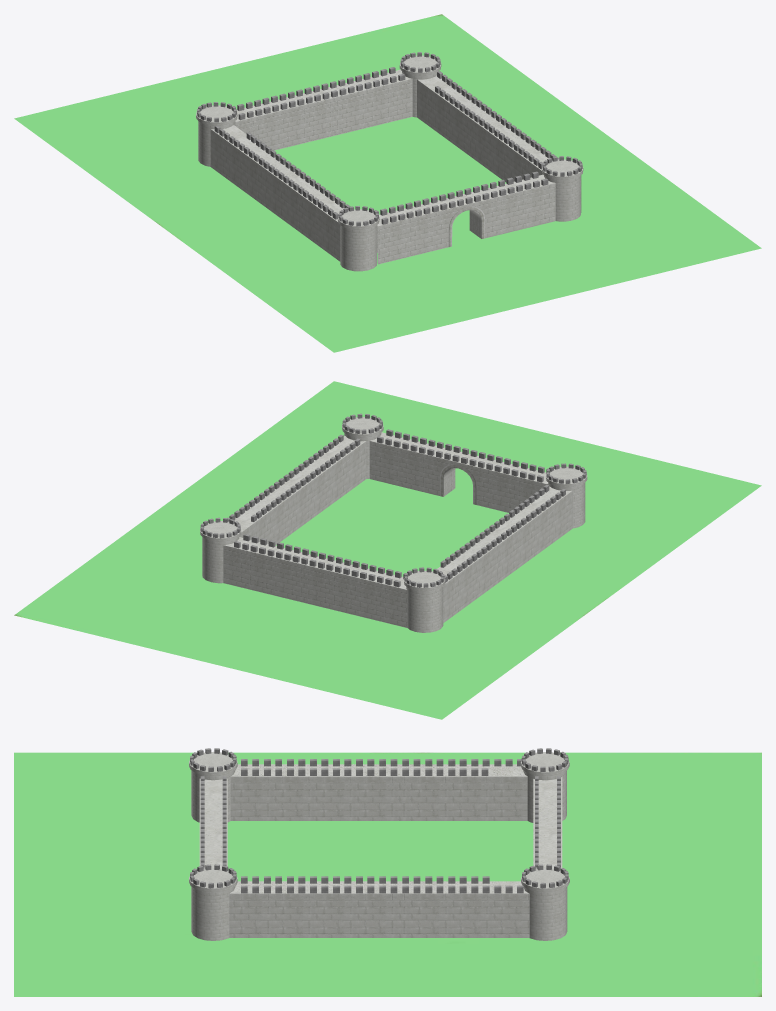
File: castle.glb
The picture shows the model from 3 angles, top to bottom: view 1: azimuth 30°, elevation 25°; view 2: azimuth 150°, elevation 25°; view 3: azimuth 270°, elevation 25°; orthographic projection. The views are drawn at different scales.
Visible parts, largest first — view 1: Ground_and_Fountain, Castle_Exterior; view 2: Ground_and_Fountain, Castle_Exterior; view 3: Ground_and_Fountain, Castle_Exterior.
Boxes of the visible parts, box(x1,y1,x2,y2) form: Ground_and_Fountain: box(14, 14, 761, 352); Castle_Exterior: box(196, 52, 583, 271); Ground_and_Fountain: box(14, 381, 761, 719); Castle_Exterior: box(200, 413, 587, 632); Ground_and_Fountain: box(14, 752, 761, 996); Castle_Exterior: box(189, 748, 569, 940).
Bounding box in the file's own units: 26.39 × 3.03 × 34.19.
Materials: 2 (2 with a texture image).
